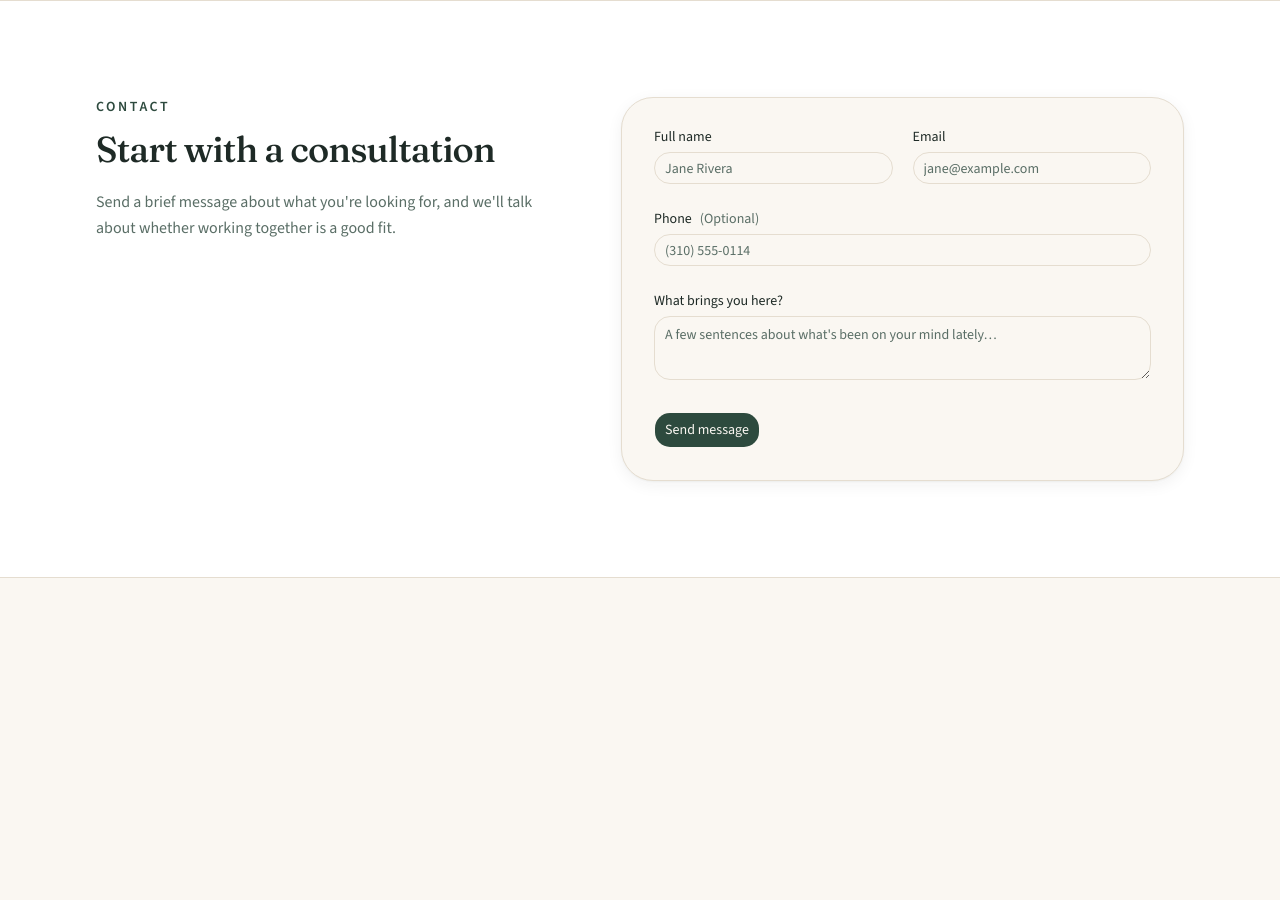
it: ContactSection › shows validation errors on empty submit
Click the button "Send message": (707, 430) [654,412,760,448]
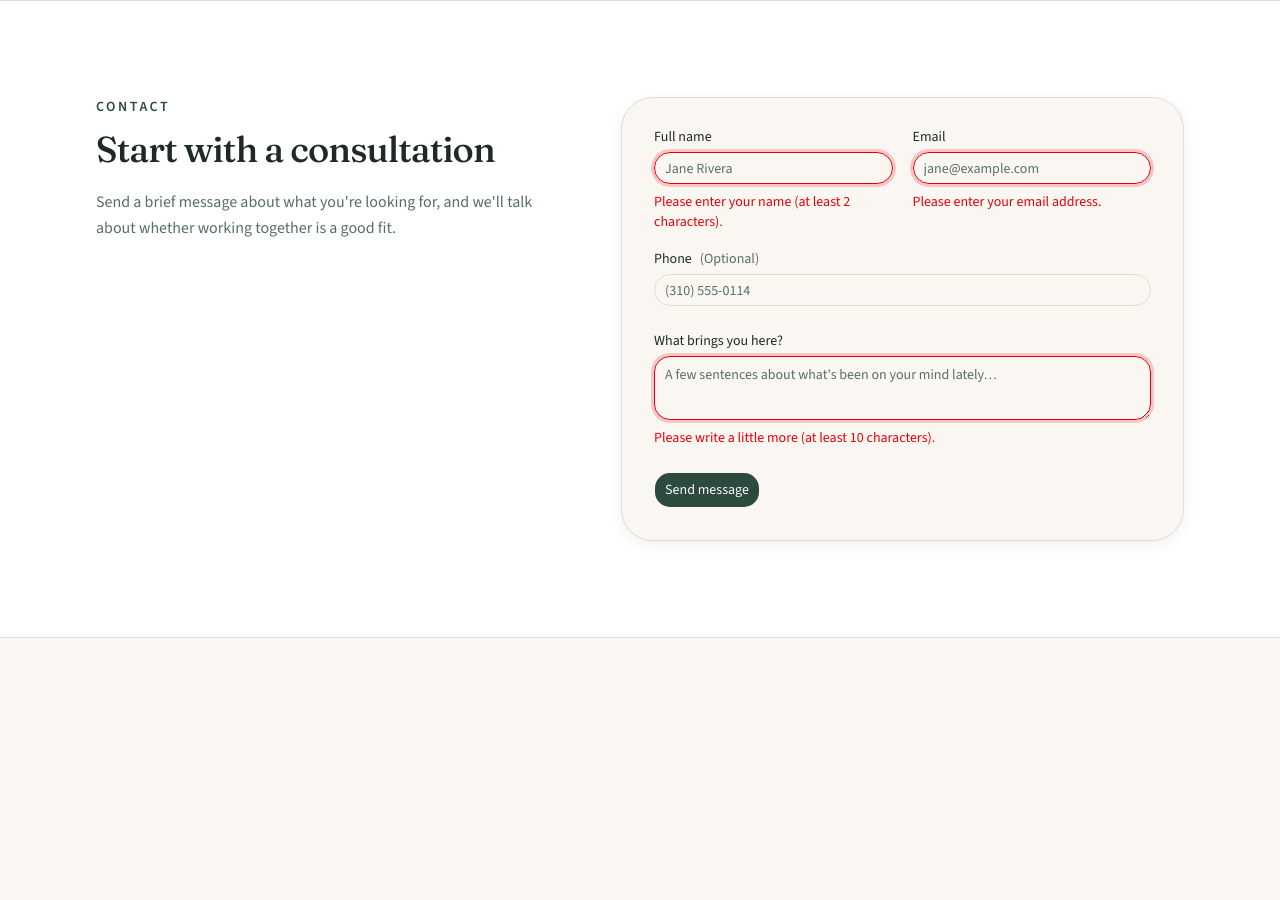
expect the text "Please enter your name (at least 2 characters)." is shown: met, box [654,192,850,231]
expect the text "Please enter your email address." is shown: met, box [912,192,1101,211]
expect the text "Please write a little more (at least 10 characters)." is shown: met, box [654,428,935,447]
